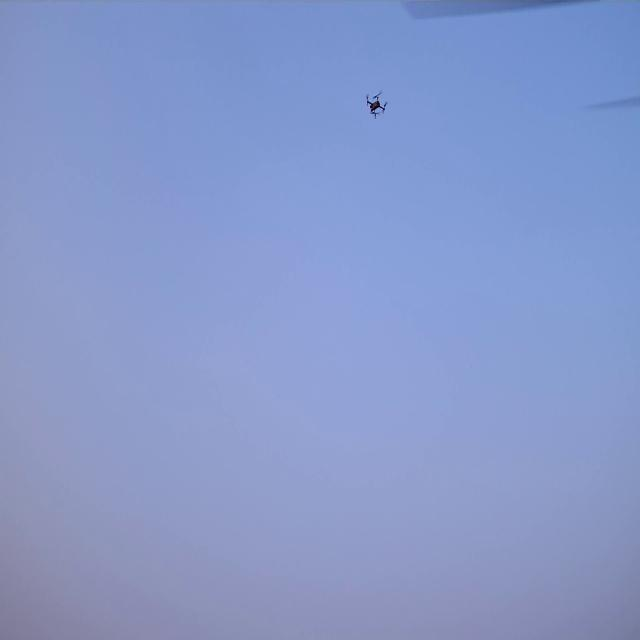UAV: (367, 94, 385, 118)
